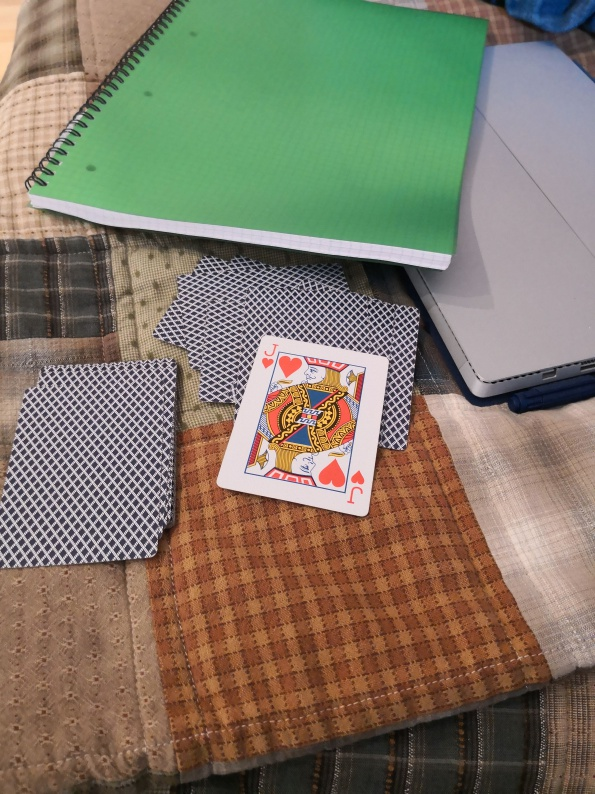jack: (214, 333, 390, 519)
